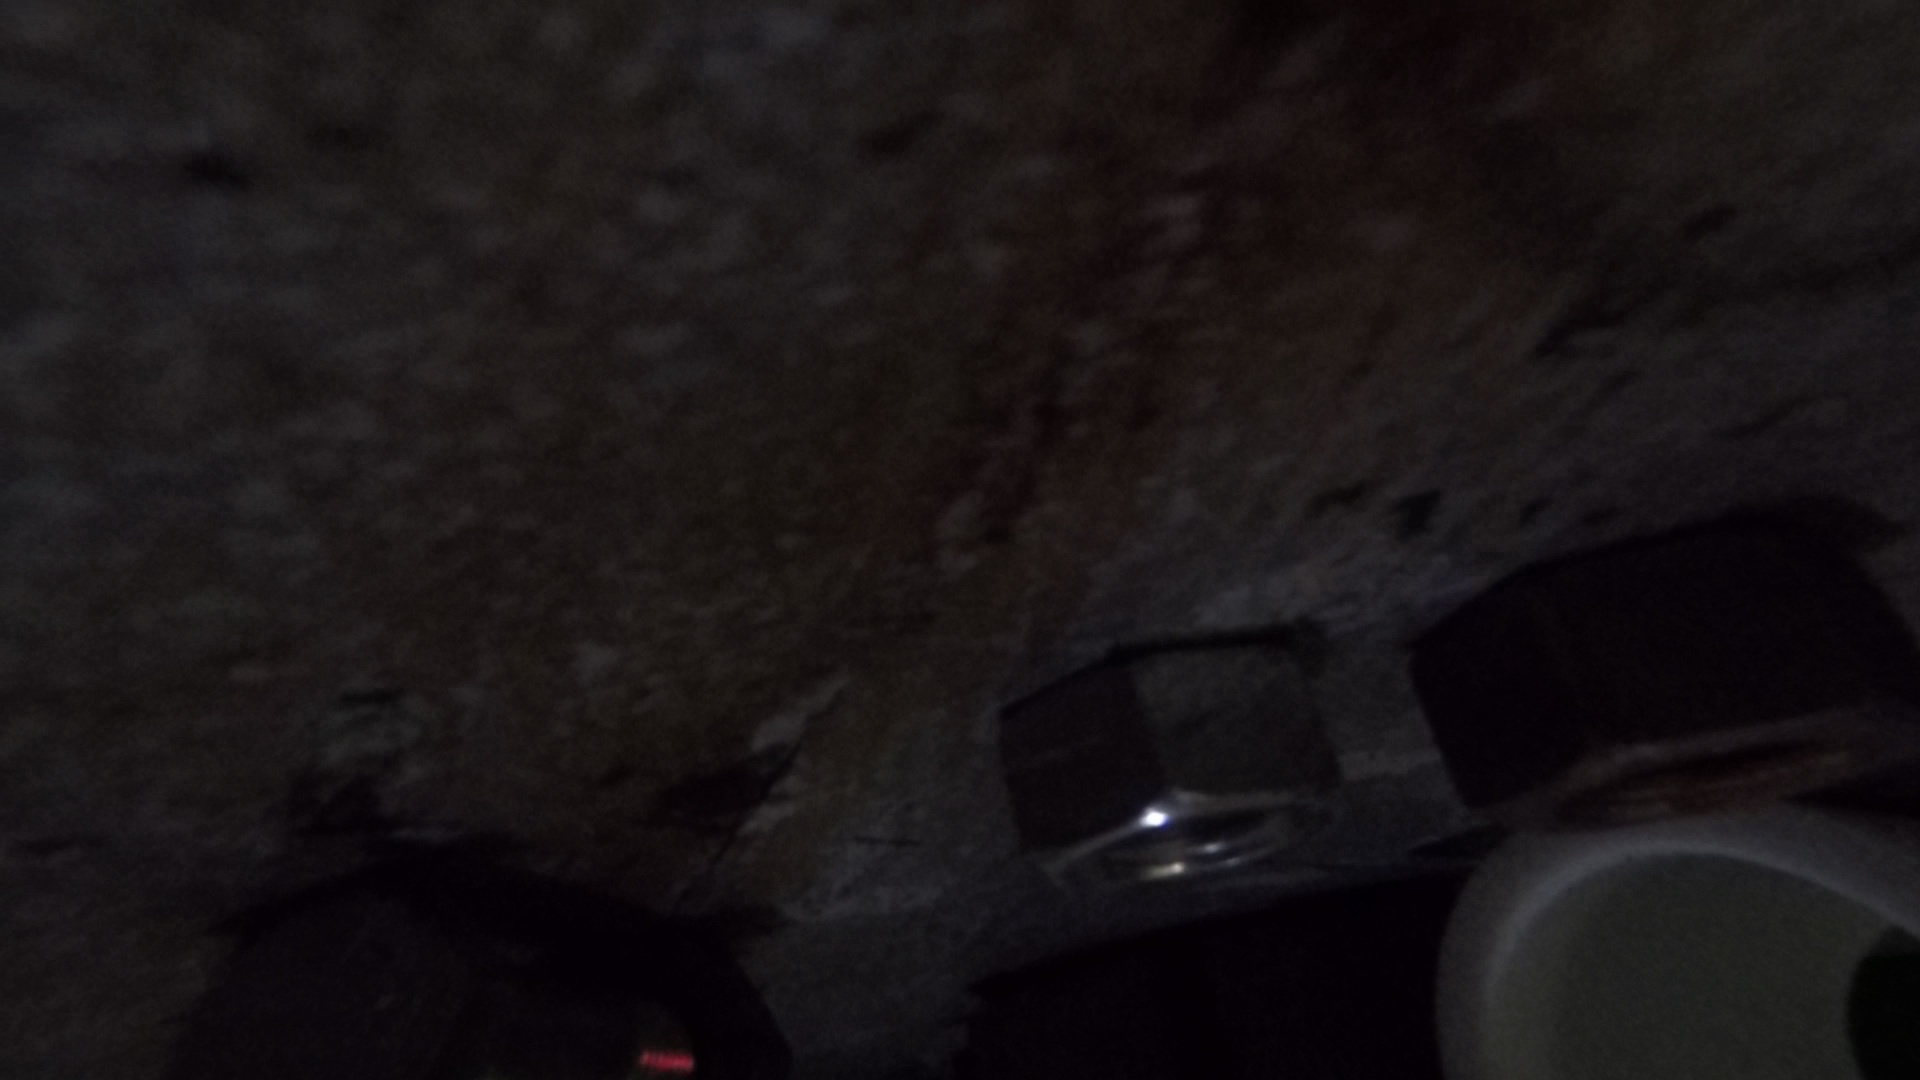bolt: (171, 891, 692, 1080)
nut: (1406, 518, 1917, 839), (986, 640, 1360, 889)
pipe: (1422, 796, 1920, 1079)
